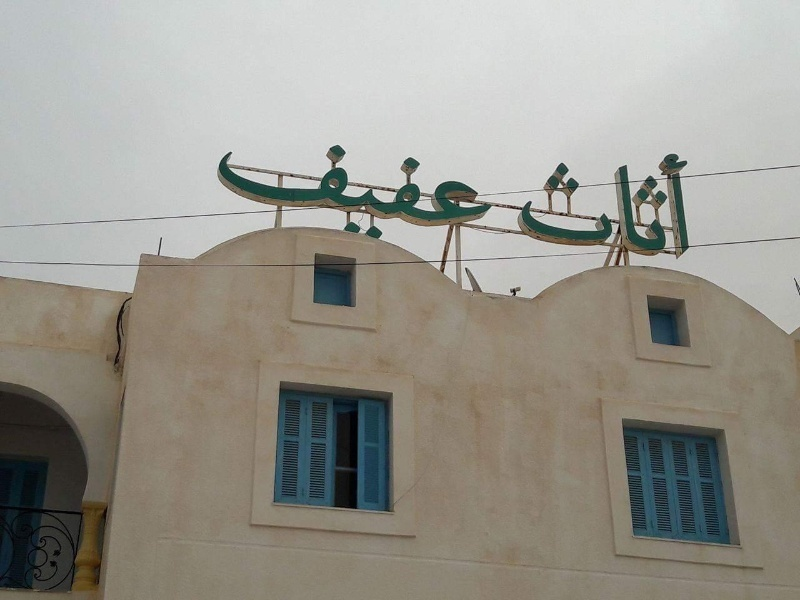text: (529, 136, 544, 262), (545, 136, 560, 262), (561, 136, 576, 262), (577, 136, 592, 262), (593, 136, 608, 262), (609, 136, 624, 262), (625, 136, 640, 262), (641, 136, 656, 262), (657, 136, 672, 262), (673, 136, 688, 262), (225, 131, 240, 255), (241, 131, 256, 255), (257, 131, 272, 255), (273, 131, 288, 255), (289, 131, 304, 255), (305, 131, 320, 255), (321, 131, 336, 255), (337, 131, 352, 255), (353, 131, 368, 255), (369, 131, 384, 255), (385, 131, 400, 255), (401, 131, 416, 255), (417, 131, 432, 255), (433, 131, 448, 255), (449, 131, 464, 255), (465, 131, 480, 255), (481, 131, 494, 255), (689, 136, 695, 262), (218, 131, 224, 255), (527, 136, 528, 262)
